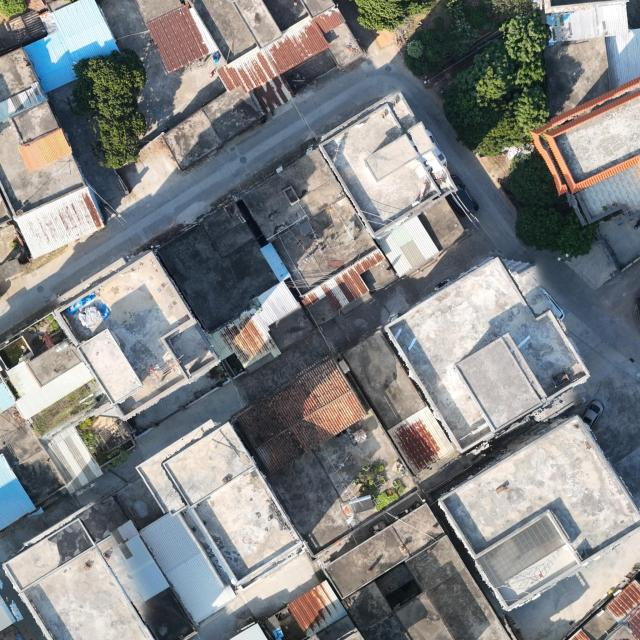Tree: (73, 46, 148, 120), (94, 111, 151, 169), (498, 10, 553, 62)
